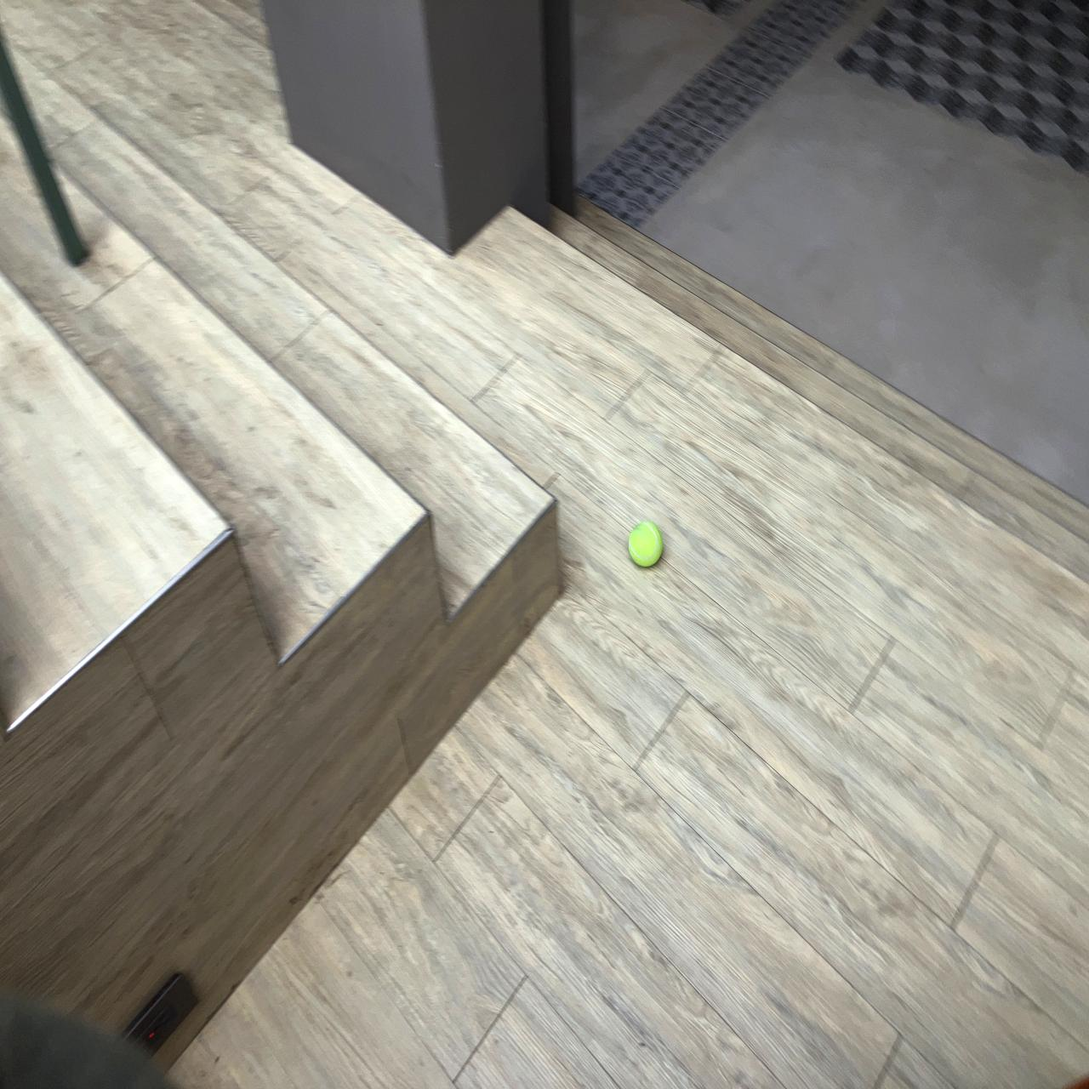tennisball: (392, 838, 426, 884)
